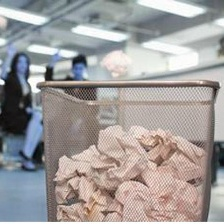book: (43, 107, 208, 222), (96, 42, 135, 82)
